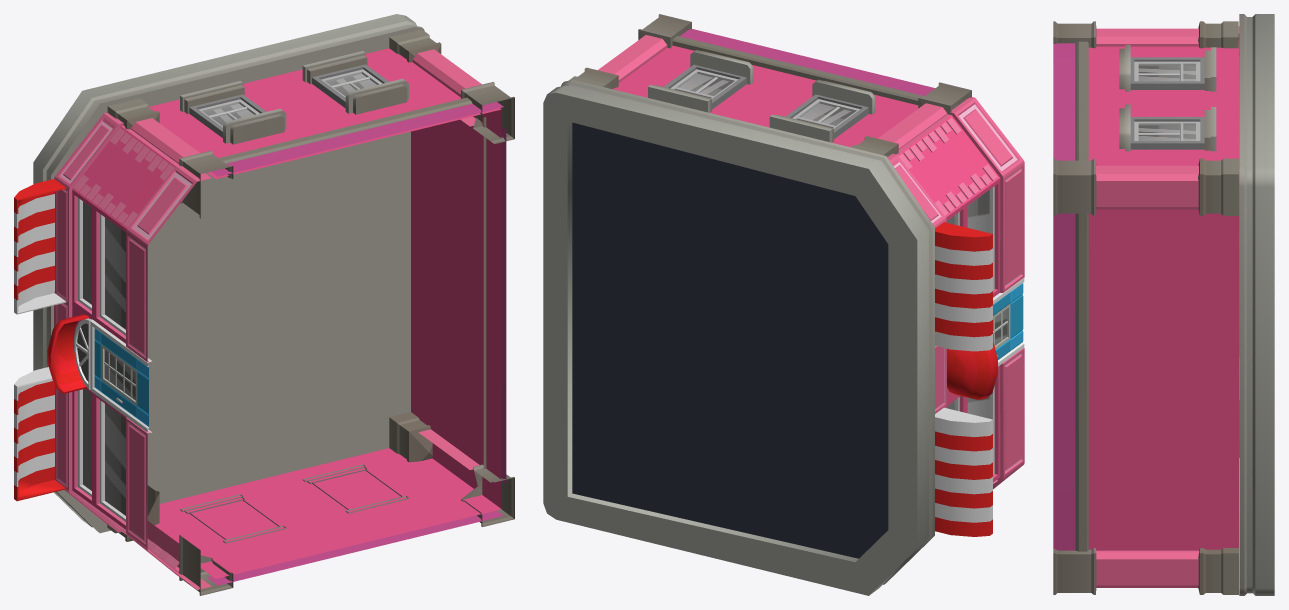
File: Building_3_1_B.fbx
3 renders of one model, left to right at view 1: azimuth 30°, elevation 25°; view 2: azimuth 150°, elevation 25°; view 3: azimuth 270°, elevation 25°, orthographic.
Parts seen in each view (by area): view 1: Building 3_1_B; view 2: Building 3_1_B; view 3: Building 3_1_B.
Boxes of the visible parts, left/top/right/bottom form: Building 3_1_B: left=14, top=14, right=514, bottom=595; Building 3_1_B: left=543, top=14, right=1024, bottom=595; Building 3_1_B: left=1053, top=14, right=1274, bottom=595.
Size of the model in its own units: 820 by 812 by 373.
